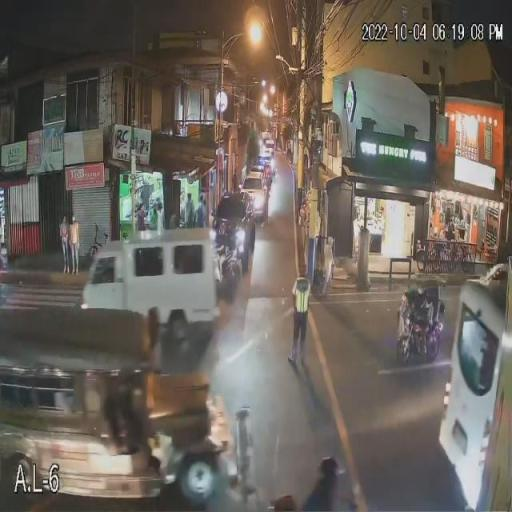motorcycle: (398, 312, 442, 366), (215, 249, 244, 299)
rider: (397, 290, 418, 335), (216, 229, 237, 263)
